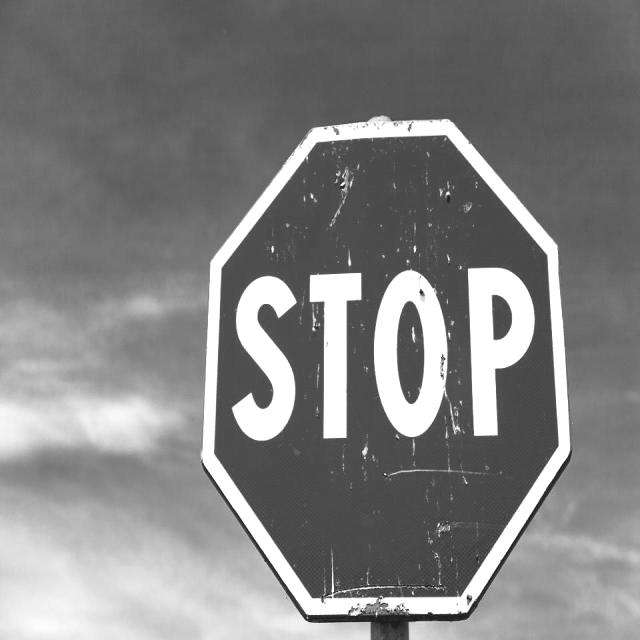Stop-sign: (187, 95, 591, 637)
